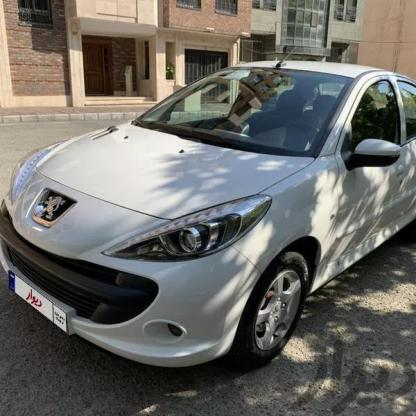Car: (0, 57, 416, 376)
